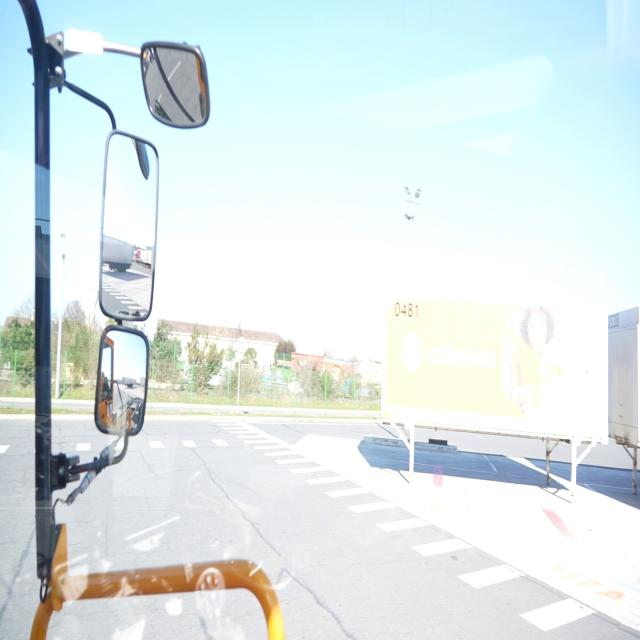Code: (392, 294, 422, 324)
